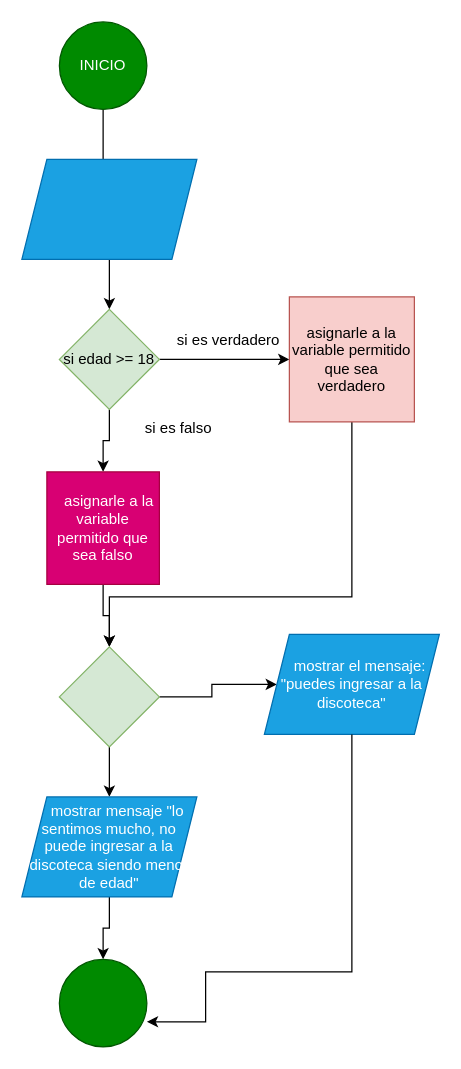
Image size: 461x1069. Some labels were removed from this diagram. The shapes that lost their labels are listed below. From the top down, each one's centre as x and y in pixels, then its label:
pixel 109 208: mostrar mensaje: "por favor, ingrese la edad del cliente: "
pixel 108 696: esta permitido?
pixel 102 1002: fin
